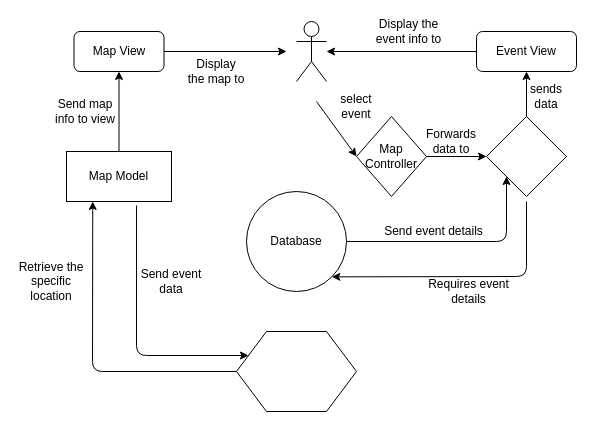
Image size: 594x429. Some labels were removed from this diagram. The shapes that lost their labels are listed below. From the top down, each one's box as (x1, y1, x2, y2) in pixels, then its label:
(296, 20, 326, 82): Actor
(486, 116, 566, 196): Event Controller
(236, 330, 356, 412): Google Maps API
